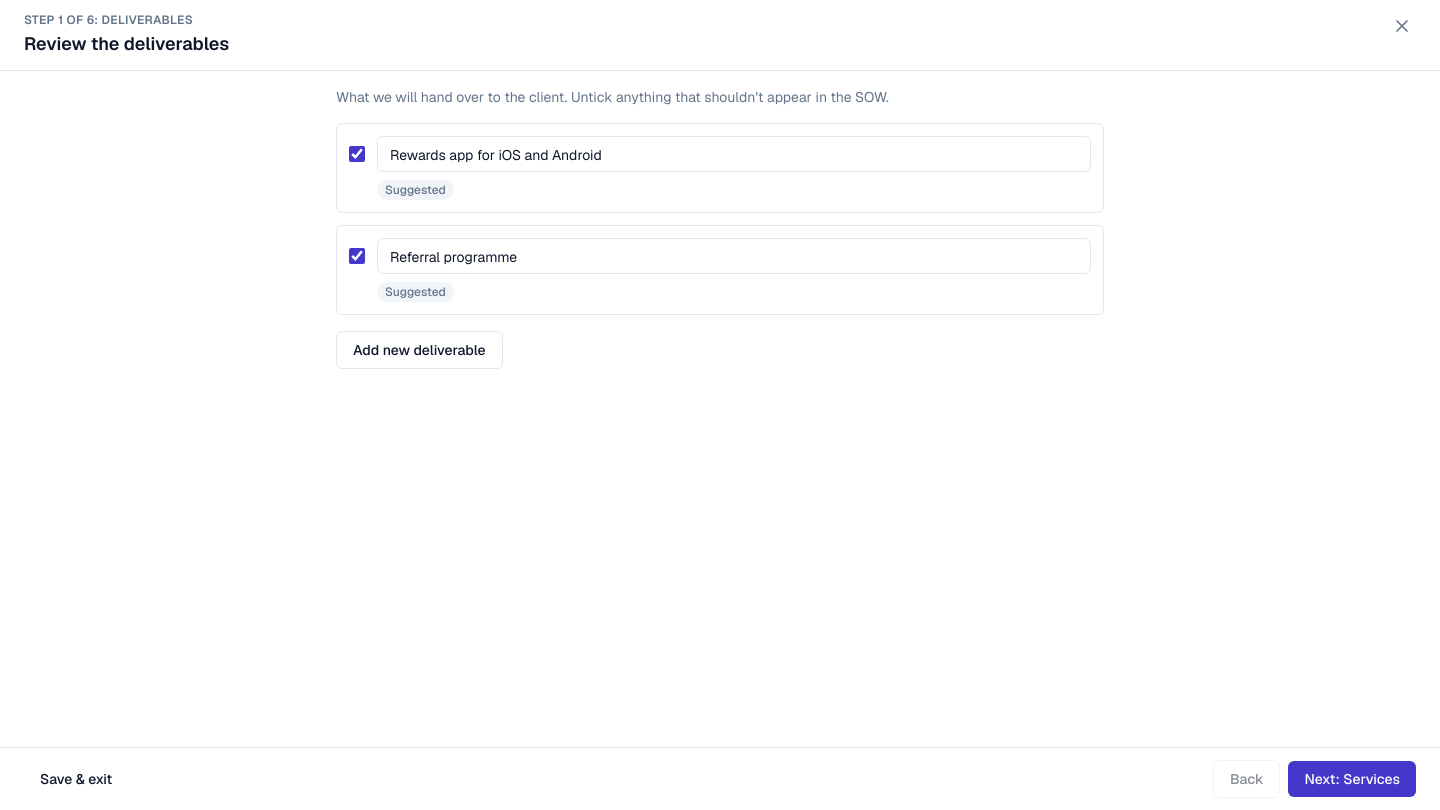
Scenario: SowReviewOverlay — autosave › offers 'Keep my edit' / 'Use their version' when someone else changed the item
The width and height of the screenshot is (1440, 810).
Replace the text in the text box named "Text of deliverable 2" with "My wording" at (734, 256), box [377,238,1091,274]
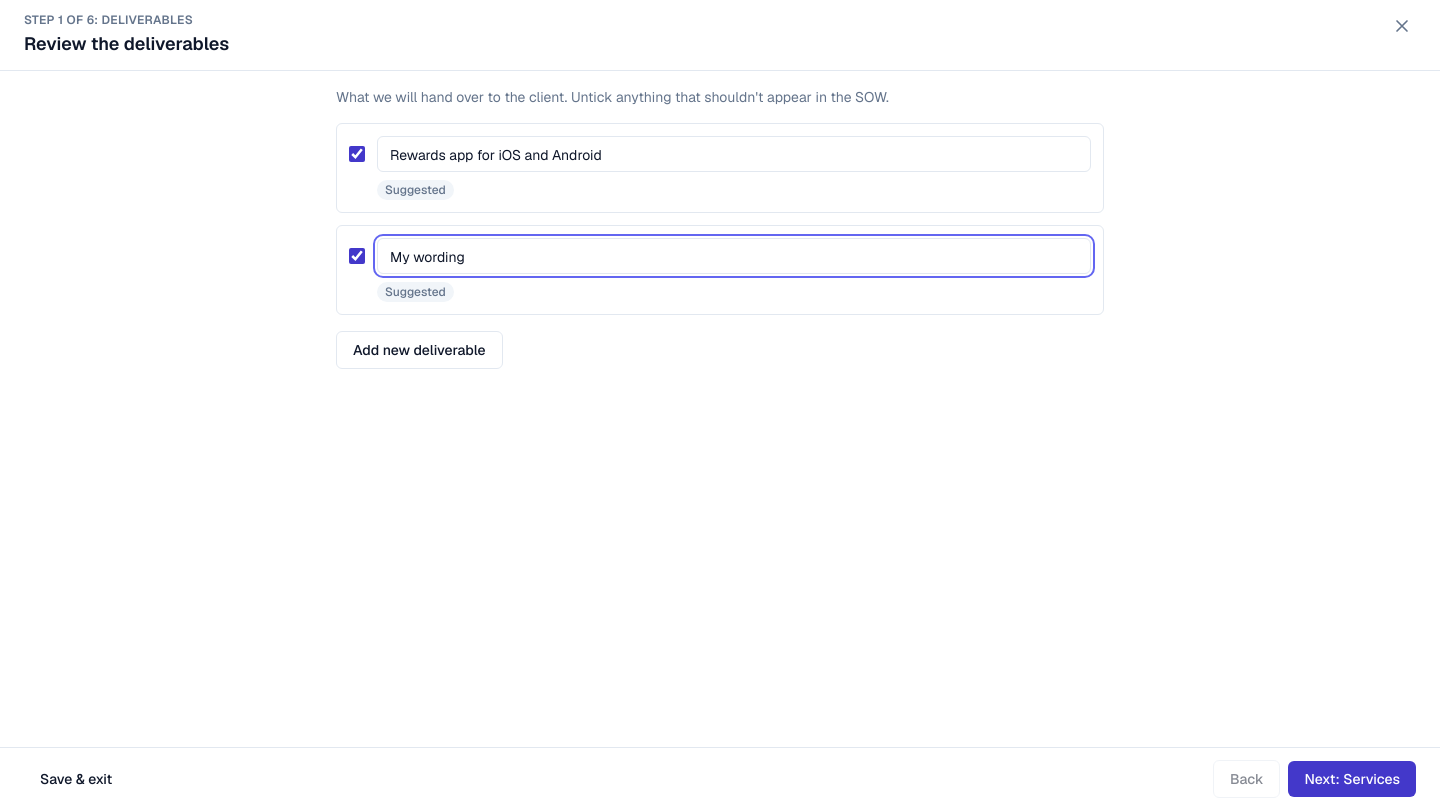
Click the button "Next: Services".
click(1352, 779)  # box [1288,761,1416,797]
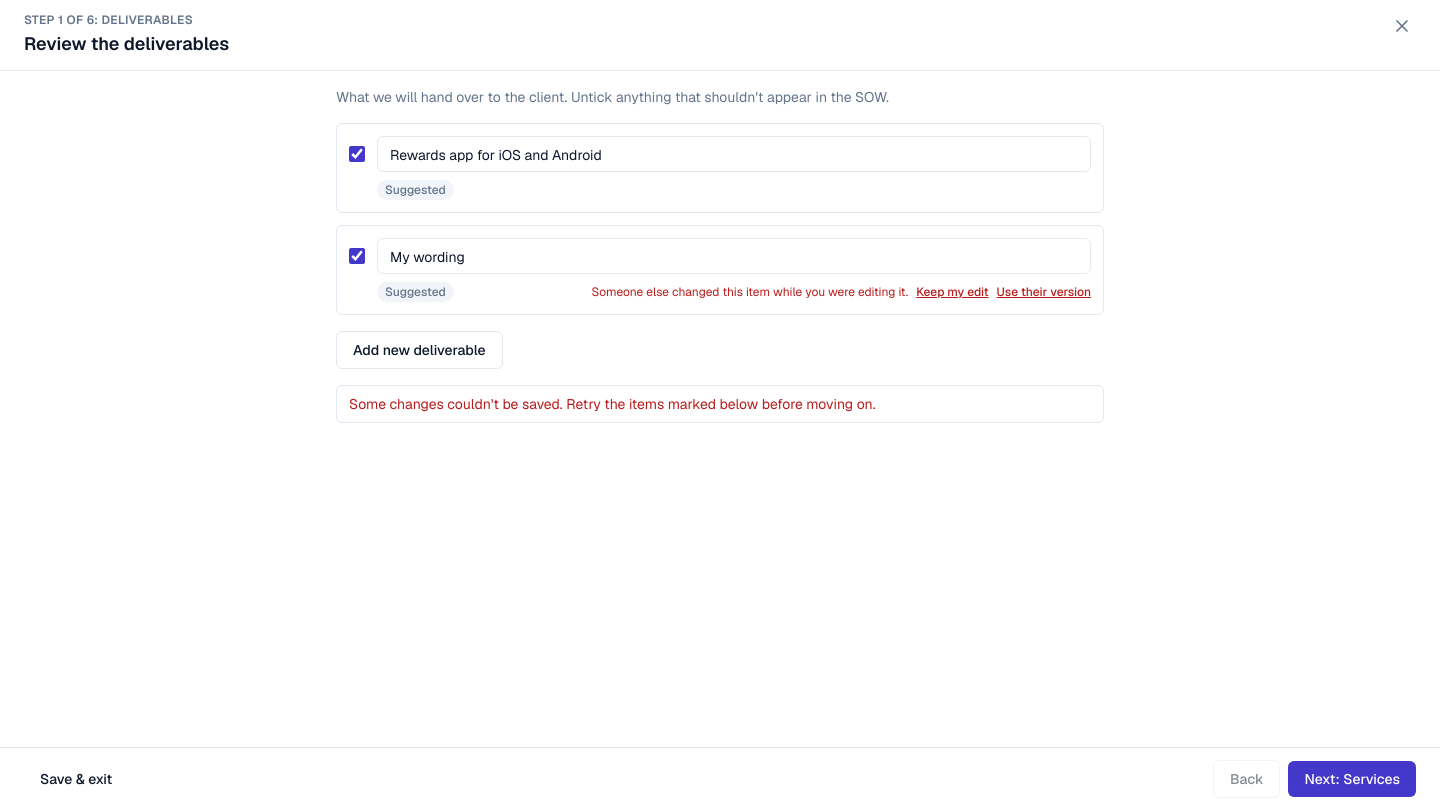
Expected: the element with test id "item-save-error" shows "Someone else changed", [591,284,908,300]
Click the button "Use their version".
click(1044, 292)  # box [997,284,1091,300]
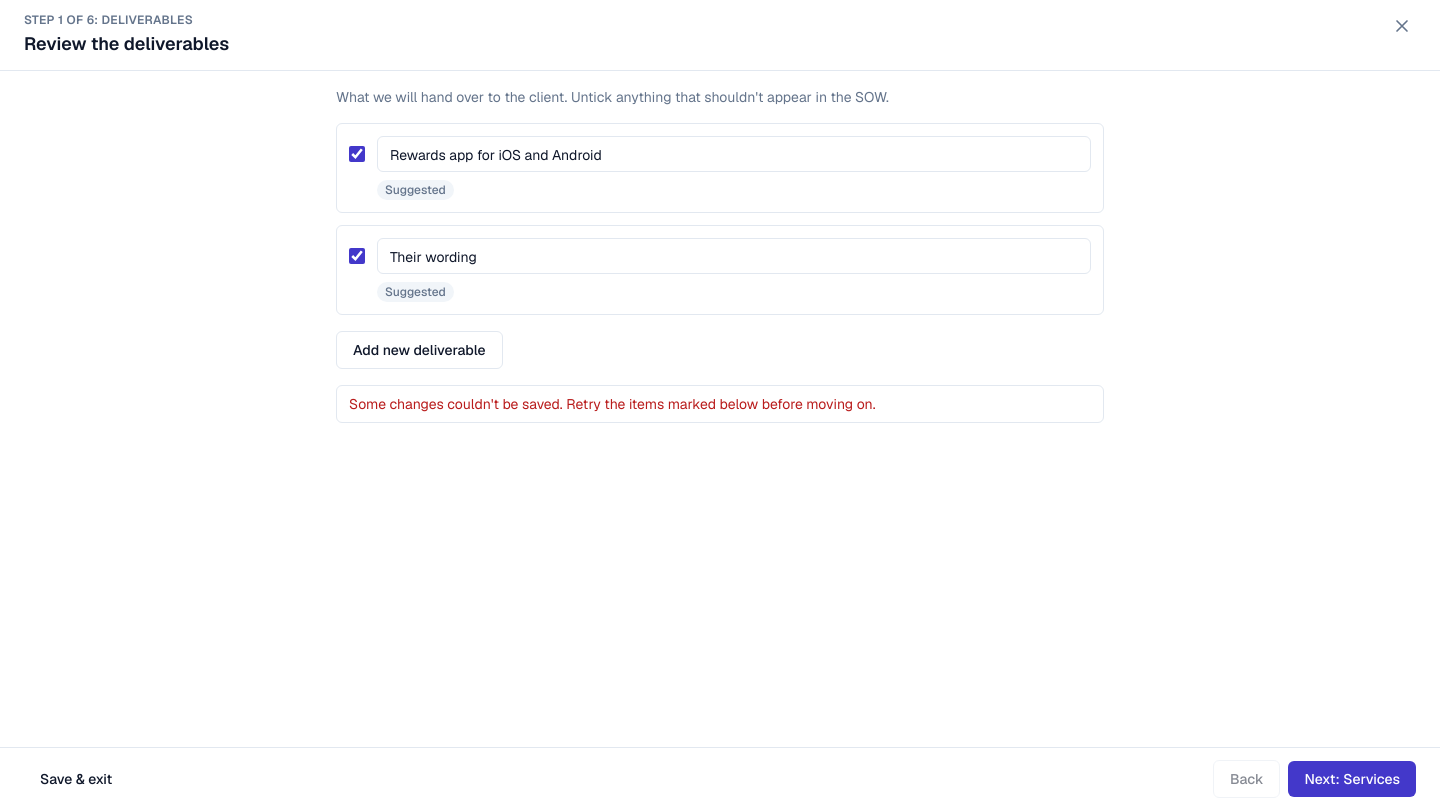
Expected: the text box showing "Their wording" is shown, [377,238,1091,274]
Expected: the element with test id "item-save-error" is gone
